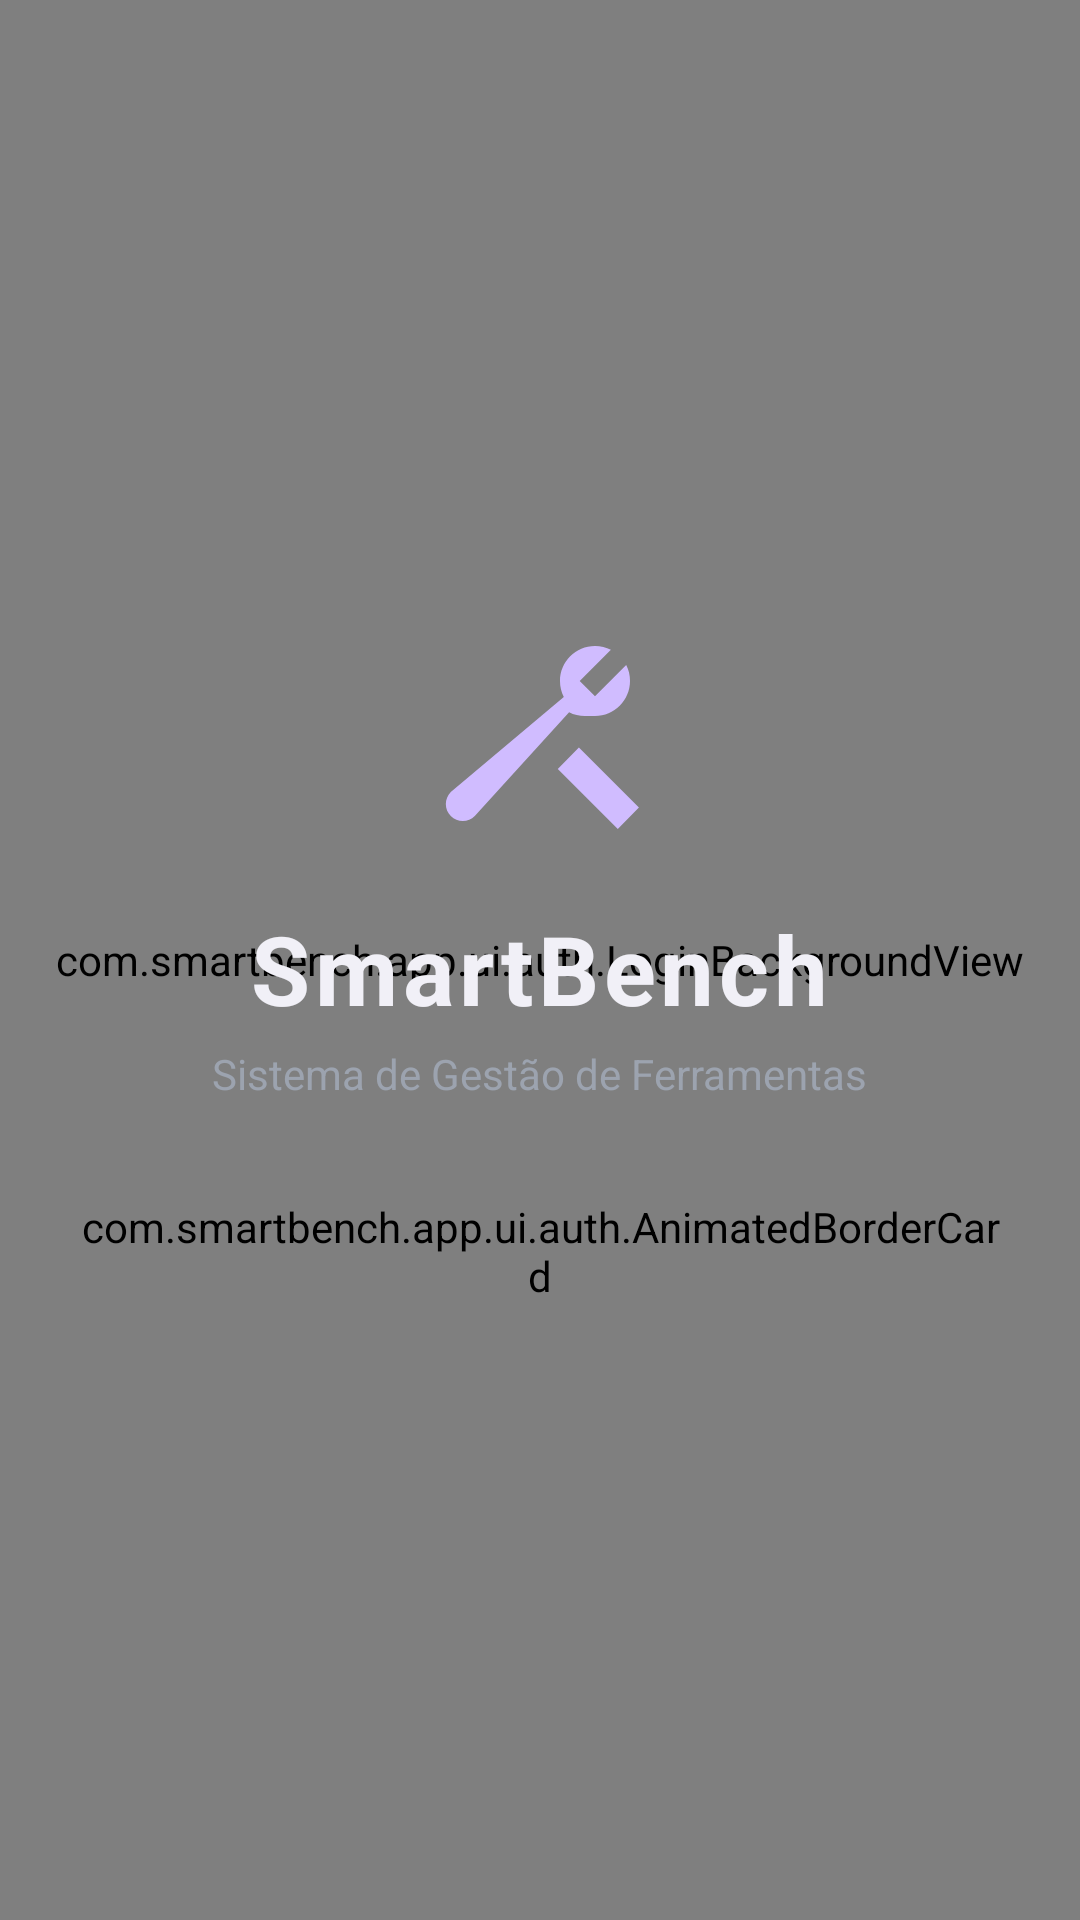

Screen size 1080w x 1920h. Icon name, then its box in pixels as bbox=[x1, y1, x2, y2]:
build: bbox=[446, 646, 639, 829]
